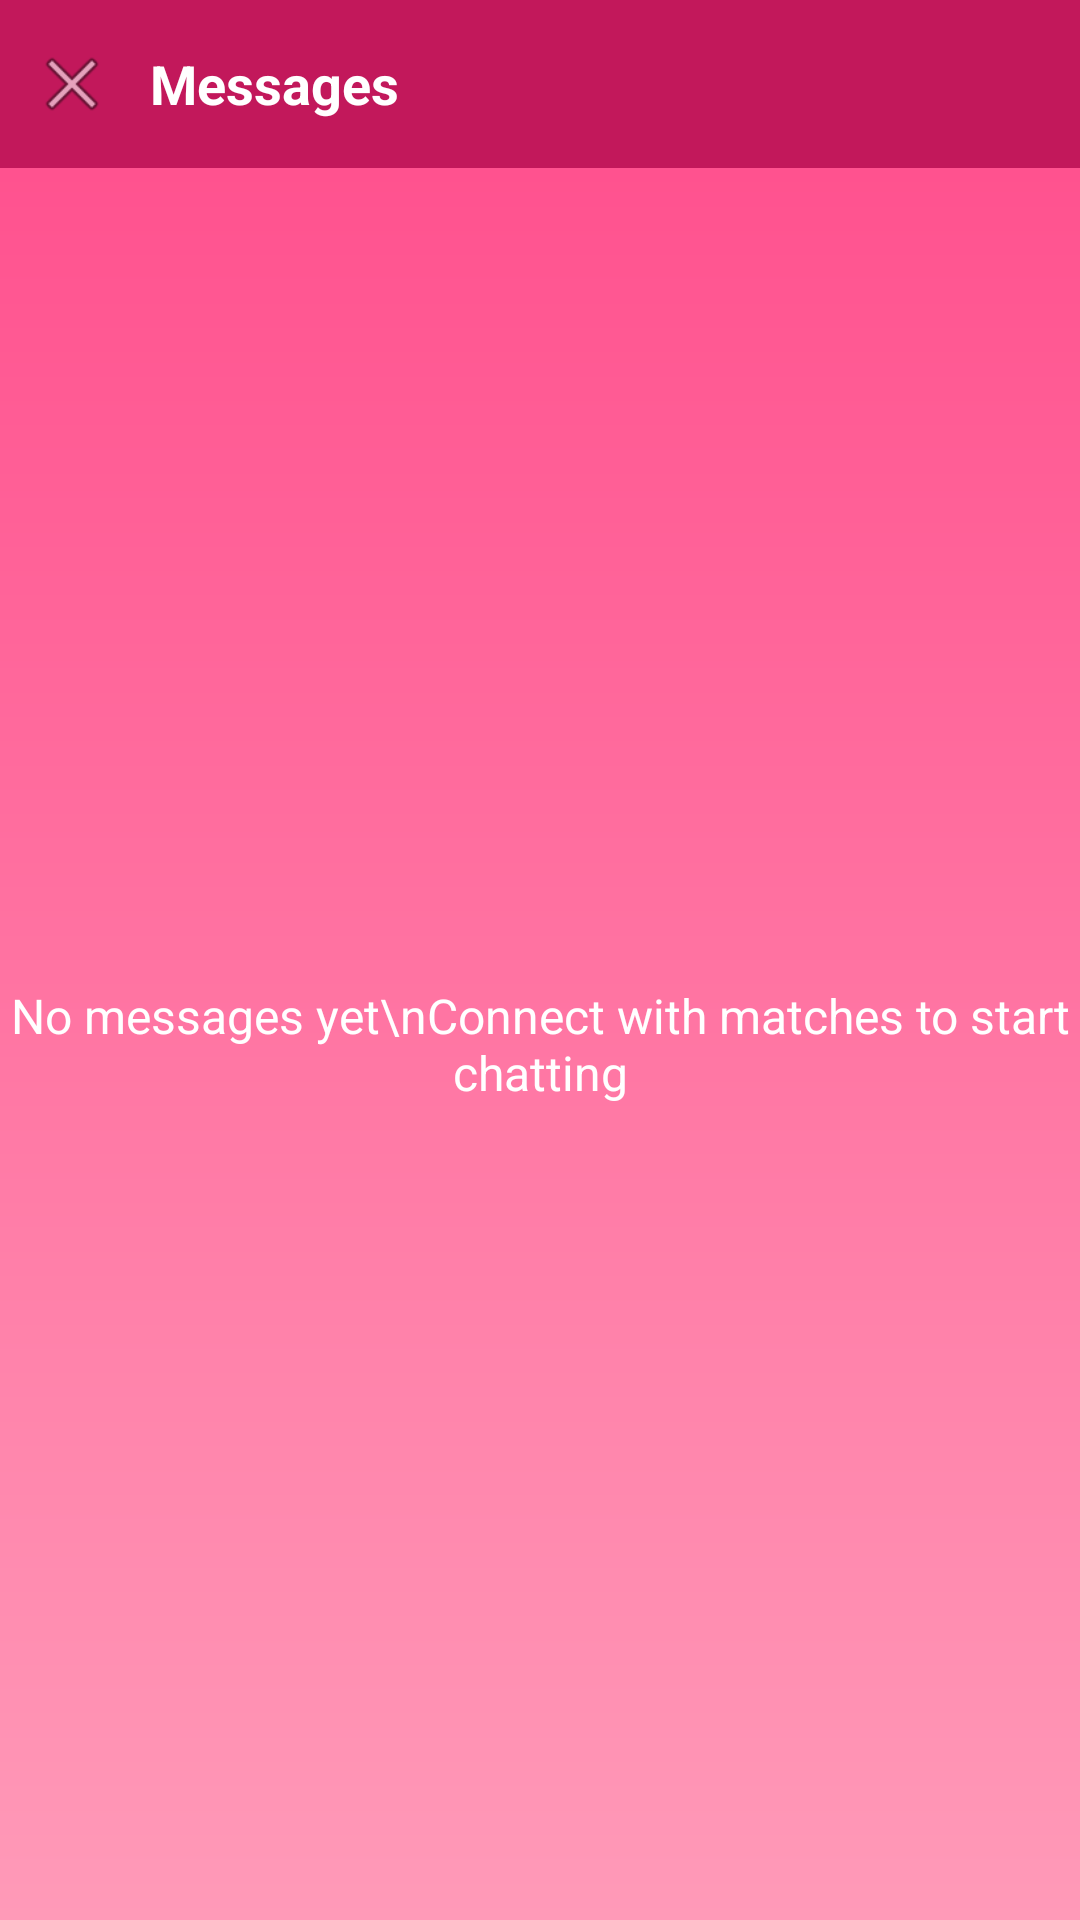

Icon click points for this 1080w x 1920h phone screenshot, format point (x, y):
close clear cancel: point (72, 84)
